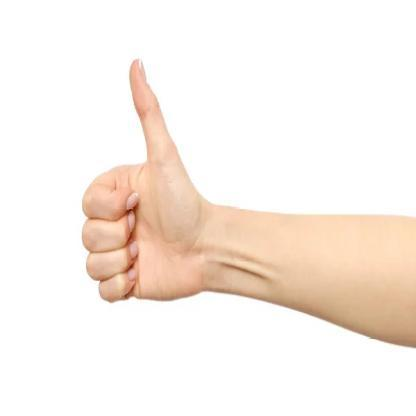thumb_up: (80, 54, 210, 302)
